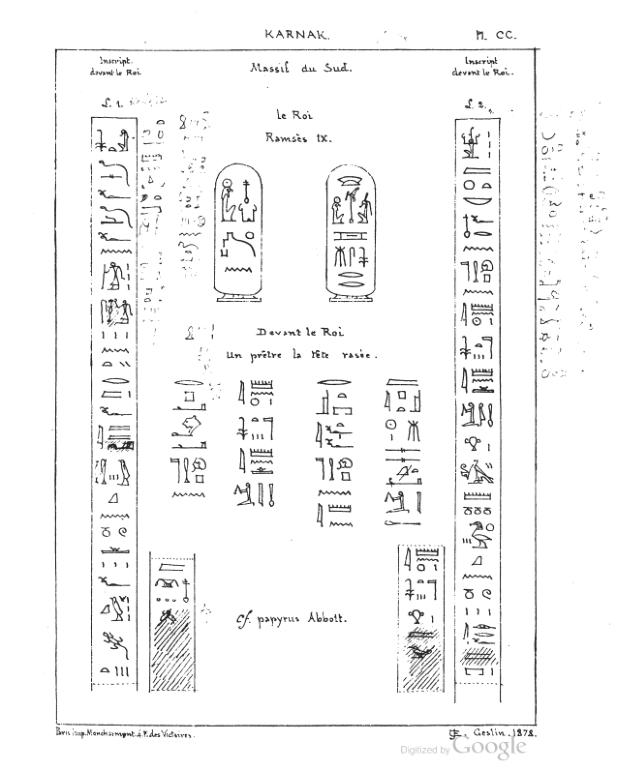circle: (316, 158, 383, 305), (212, 161, 268, 305)
